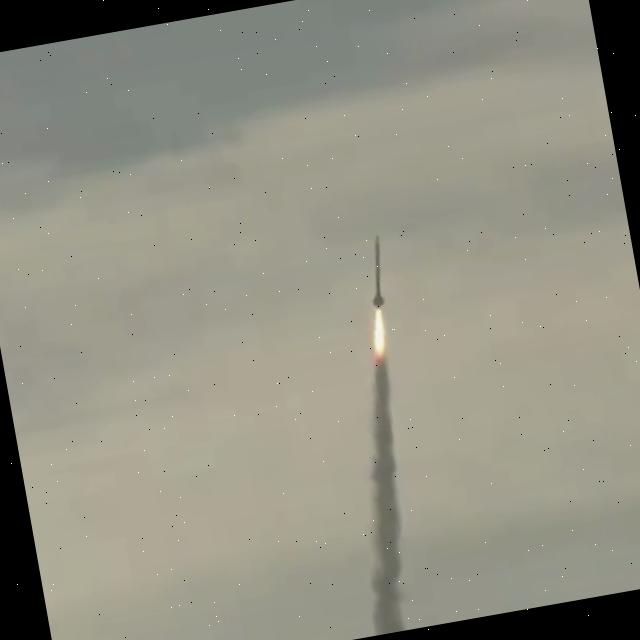rocket: (372, 235, 383, 306)
smoke_trail_with_rocket: (368, 236, 406, 635)
